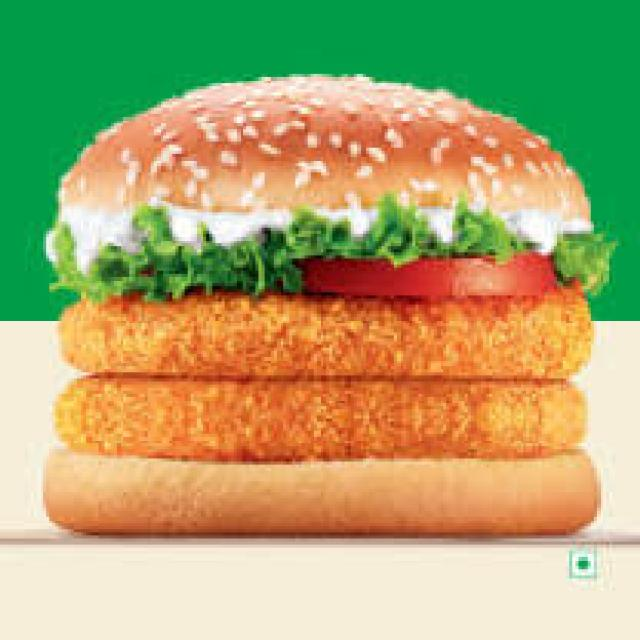햄버거: (35, 79, 604, 547)
